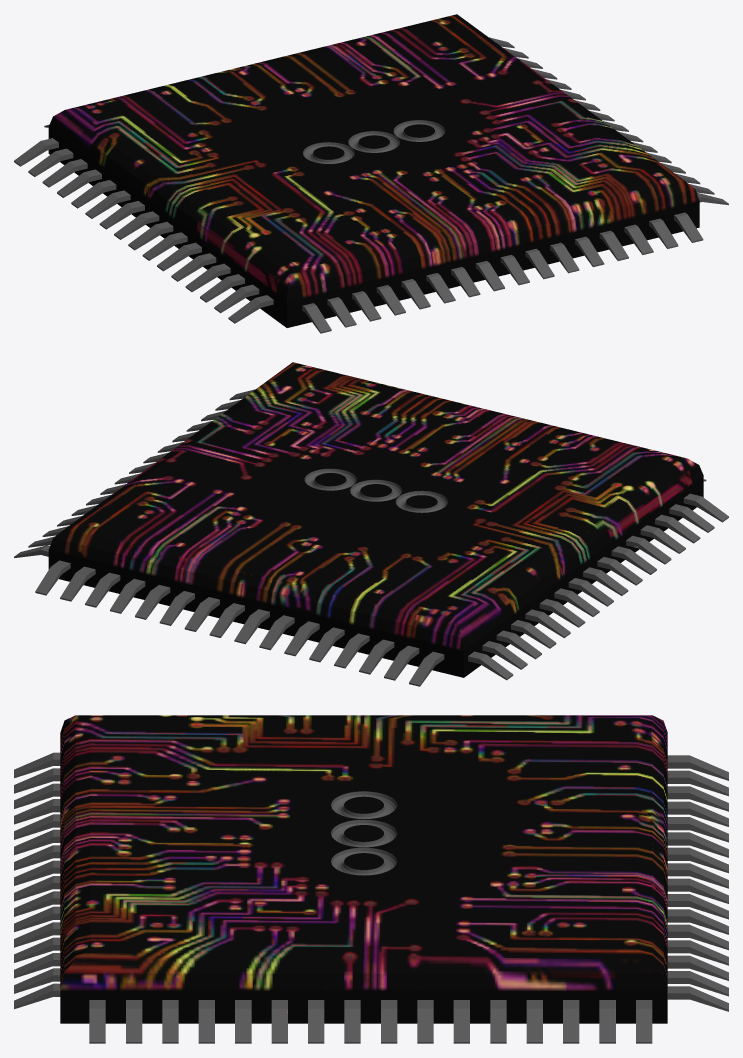
File: neuro-object.glb
3 renders of one model, top to bottom at view 1: azimuth 30°, elevation 25°; view 2: azimuth 150°, elevation 25°; view 3: azimuth 270°, elevation 25°, orthographic. The views are drawn at different scales.
Parts seen in each view (by area): view 1: Object_2; view 2: Object_2; view 3: Object_2.
Part boxes in pixels (left/top/right/bottom): Object_2: left=14, top=14, right=728, bottom=333; Object_2: left=14, top=362, right=728, bottom=686; Object_2: left=14, top=715, right=728, bottom=1043.
Bounding box in the file's own units: 2.38 × 0.2251 × 2.35.
1 material, 1 textured.
